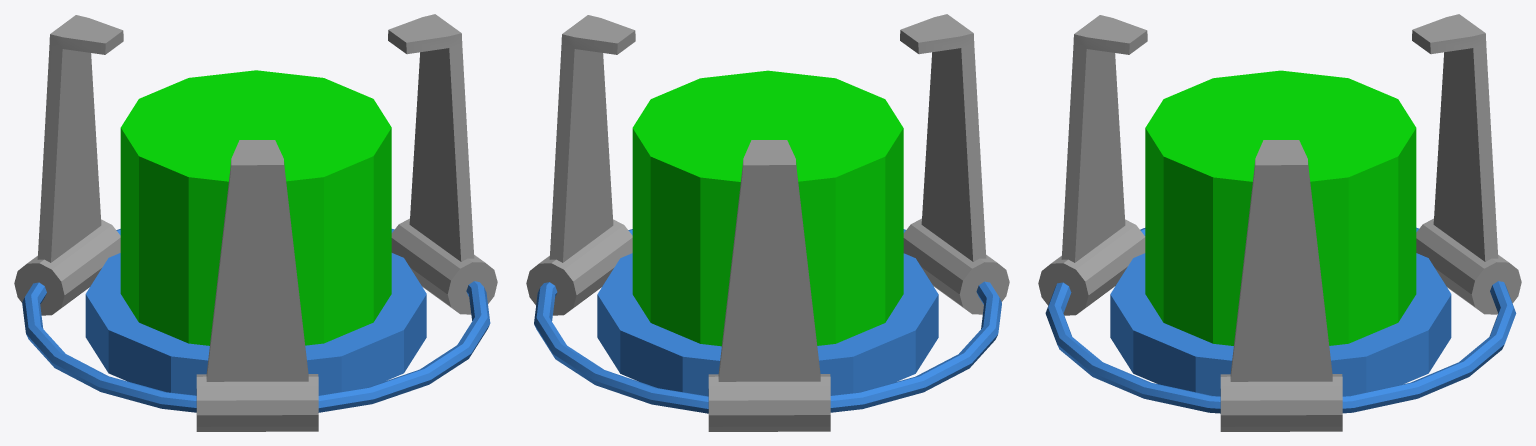
Rendered from teleport button.fbx.
3 renders of one model, left to right at view 1: azimuth 30°, elevation 25°; view 2: azimuth 150°, elevation 25°; view 3: azimuth 270°, elevation 25°, orthographic.
Parts seen in each view (by area): view 1: pCylinder3, pCube5, pTorus1; view 2: pCylinder3, pCube5, pTorus1; view 3: pCylinder3, pCube5, pTorus1.
Part boxes in pixels (box(x1,y1,x2,y2)): pCylinder3: box(85, 70, 426, 395); pCube5: box(14, 14, 497, 431); pTorus1: box(22, 229, 490, 412); pCylinder3: box(597, 70, 938, 396); pCube5: box(526, 14, 1009, 431); pTorus1: box(534, 229, 1001, 413); pCylinder3: box(1110, 70, 1451, 396); pCube5: box(1038, 14, 1521, 431); pTorus1: box(1045, 227, 1516, 413).
Bounding box in the file's own units: 3.81 × 2.34 × 3.84.
